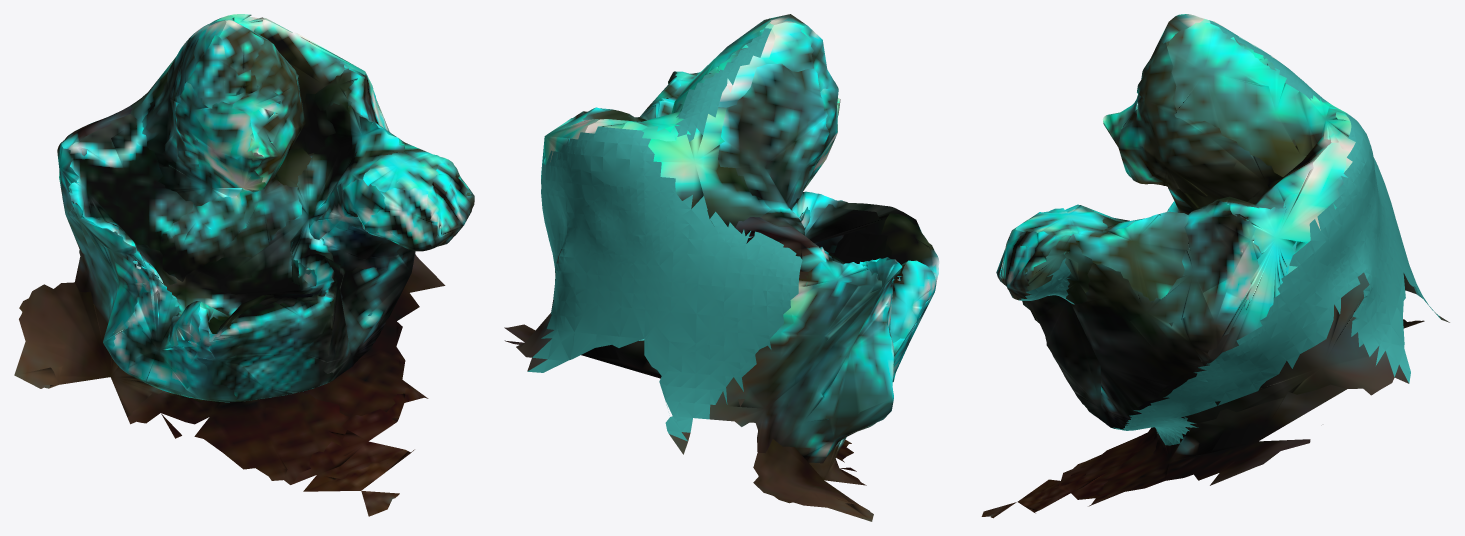
Rendered from dumpy.obj.
3 renders of one model, left to right at view 1: azimuth 30°, elevation 25°; view 2: azimuth 150°, elevation 25°; view 3: azimuth 270°, elevation 25°, orthographic. The views are drawn at different scales.
Parts seen in each view (by area): view 1: dumpy; view 2: dumpy; view 3: dumpy.
Part boxes in pixels (box(x1,y1,x2,y2)): dumpy: box(14, 14, 474, 516); dumpy: box(504, 14, 939, 521); dumpy: box(981, 14, 1449, 518).
Bounding box in the file's own units: 18.9 × 21.14 × 19.51.
Materials: 1 (1 with a texture image).
